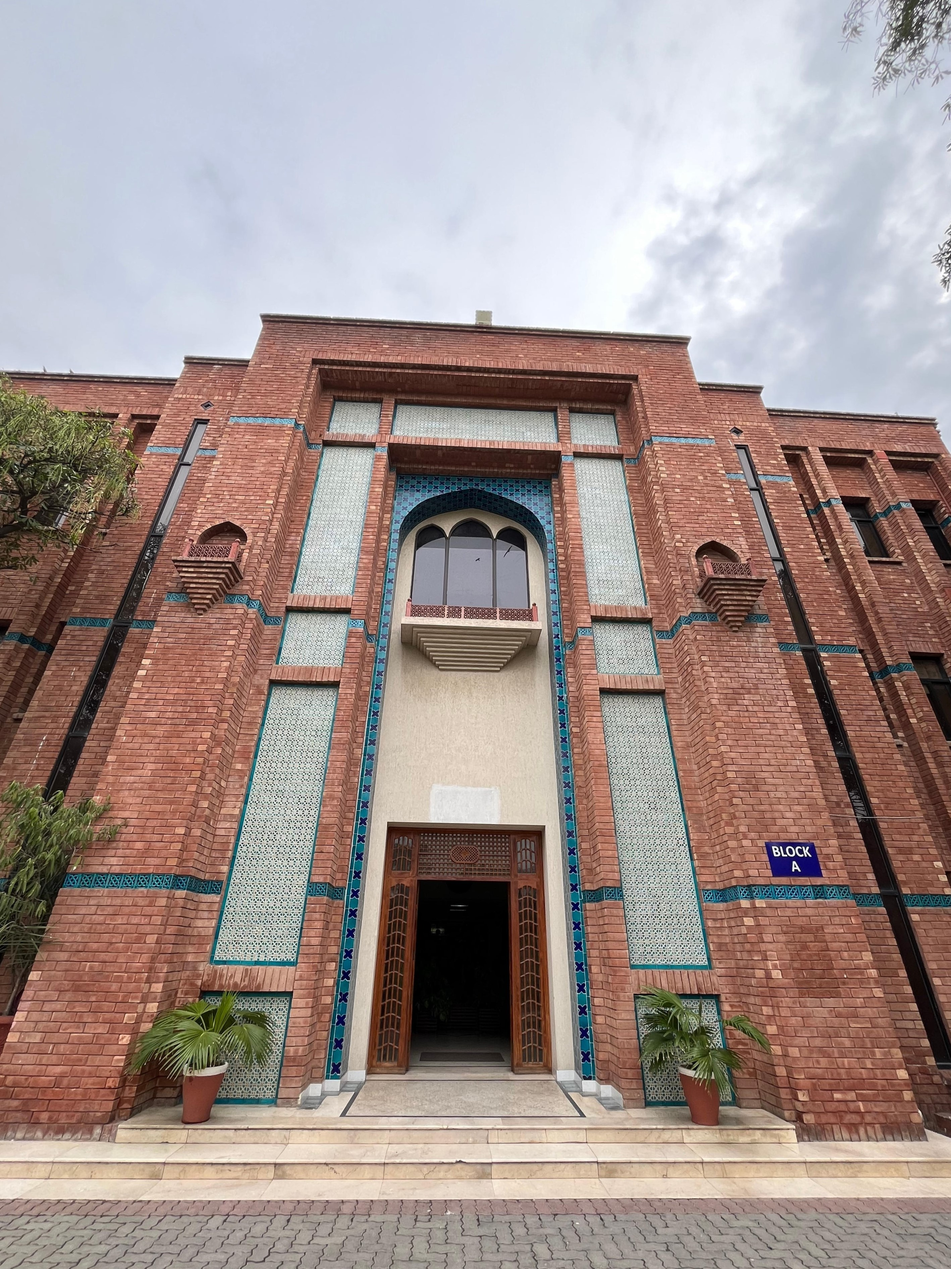Block A: (9, 304, 951, 1187)
